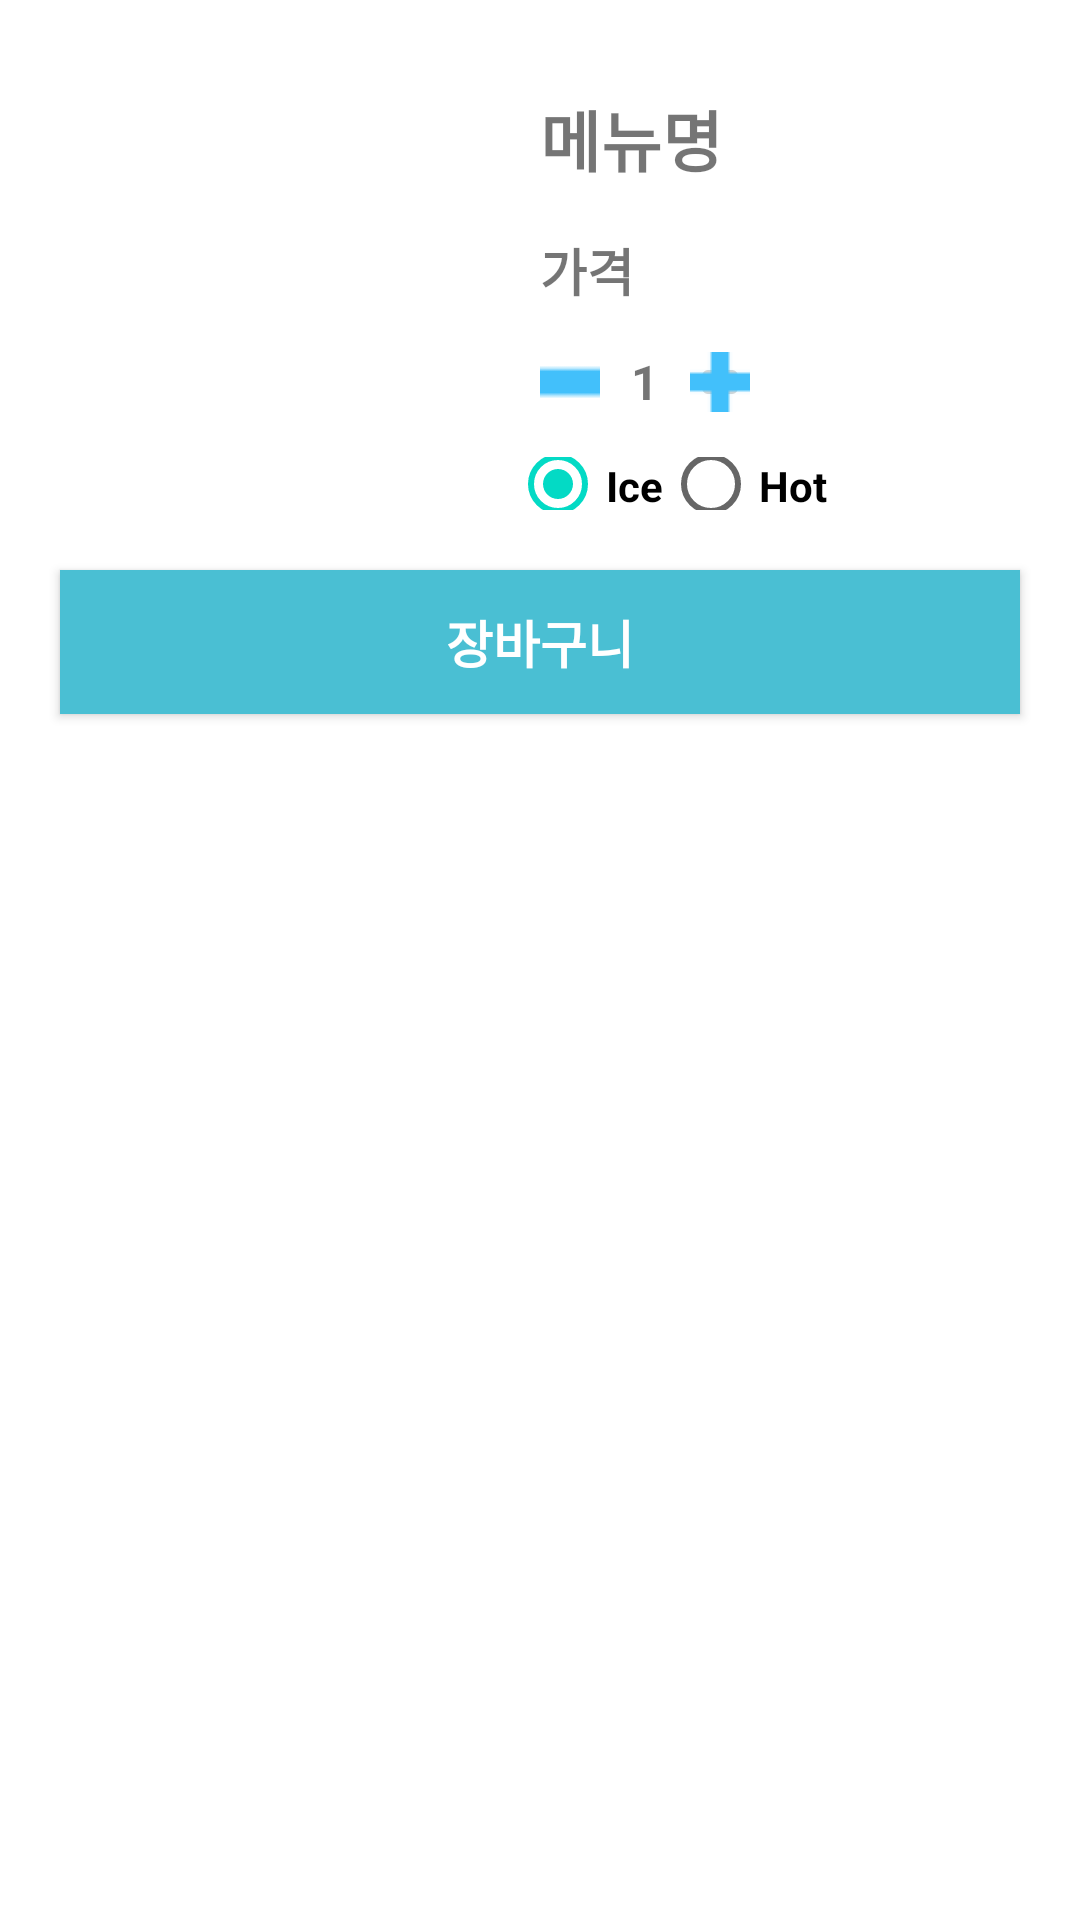

Icon bounding boxes for this 1080 × 1920 phone screenshot, format (x1, y1, x2, y2):
minus: (540, 367, 600, 398)
plus: (690, 352, 750, 412)
